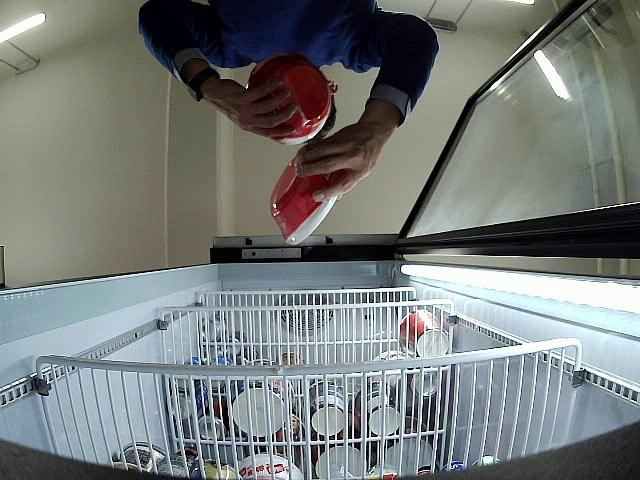00_hand: (297, 107, 390, 203), (203, 78, 297, 136)
10_wangTtukkeong: (246, 51, 332, 145), (270, 154, 349, 245)
